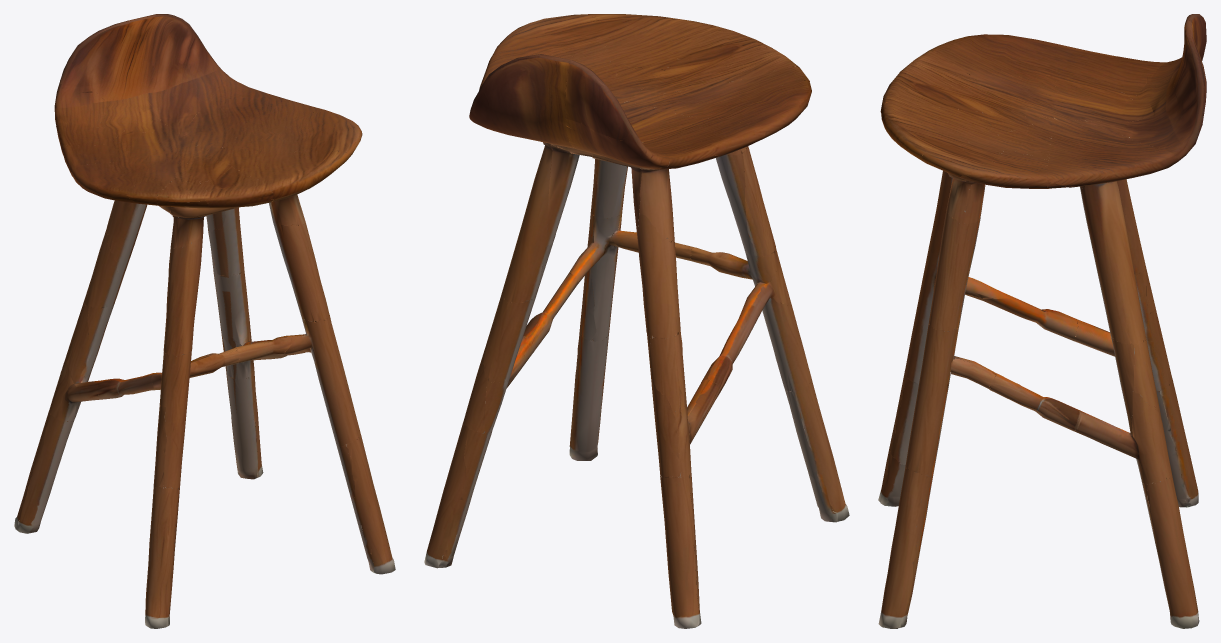
Rendered from stool-tripo.glb.
3 views of the same model, side by side, from view 1: azimuth 30°, elevation 25°; view 2: azimuth 150°, elevation 25°; view 3: azimuth 270°, elevation 25° (orthographic). The views are drawn at different scales.
Visible parts, largest first — view 1: tripo_node_2b3ea80a-bfe9-4cf7-83c7-02a99d0d17aa; view 2: tripo_node_2b3ea80a-bfe9-4cf7-83c7-02a99d0d17aa; view 3: tripo_node_2b3ea80a-bfe9-4cf7-83c7-02a99d0d17aa.
Part boxes in pixels (x1=…): tripo_node_2b3ea80a-bfe9-4cf7-83c7-02a99d0d17aa: x1=14, y1=14, x2=395, y2=628; tripo_node_2b3ea80a-bfe9-4cf7-83c7-02a99d0d17aa: x1=424, y1=14, x2=849, y2=628; tripo_node_2b3ea80a-bfe9-4cf7-83c7-02a99d0d17aa: x1=878, y1=14, x2=1206, y2=628.
Size of the model in its own units: 0.5762 by 1 by 0.5532.
1 material, 1 textured.
